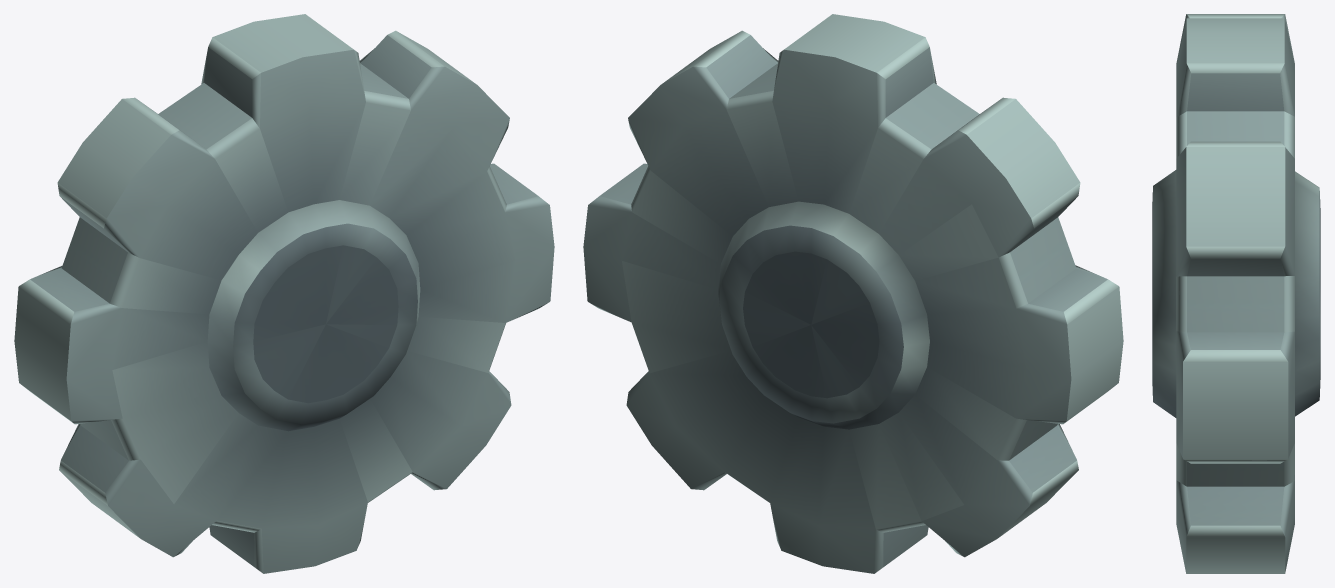
Rendered from cog_small.fbx.
3 views of the same model, side by side, from view 1: azimuth 30°, elevation 25°; view 2: azimuth 150°, elevation 25°; view 3: azimuth 270°, elevation 25° (orthographic).
Visible parts, largest first — view 1: cog_small; view 2: cog_small; view 3: cog_small.
Boxes of the visible parts, bbox=[...] form: cog_small: bbox=[14, 14, 554, 573]; cog_small: bbox=[583, 14, 1123, 573]; cog_small: bbox=[1152, 14, 1320, 573].
Size of the model in its own units: 334 by 335 by 99.27.
